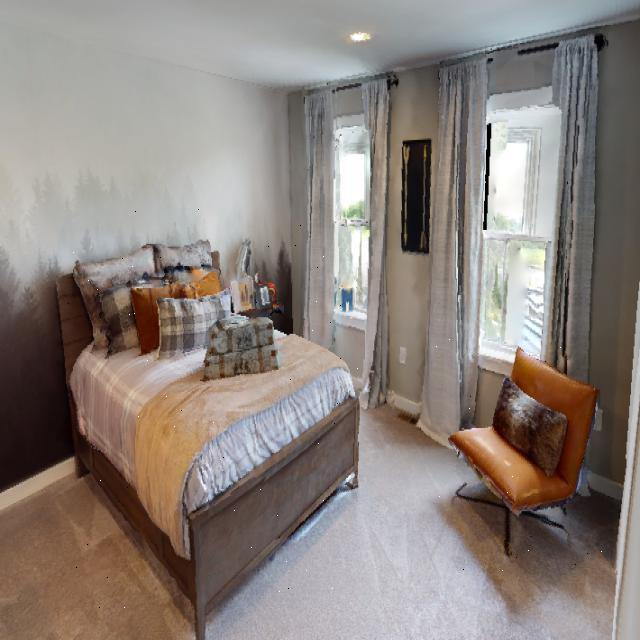bed: (63, 206, 361, 624)
chair: (434, 328, 604, 571)
